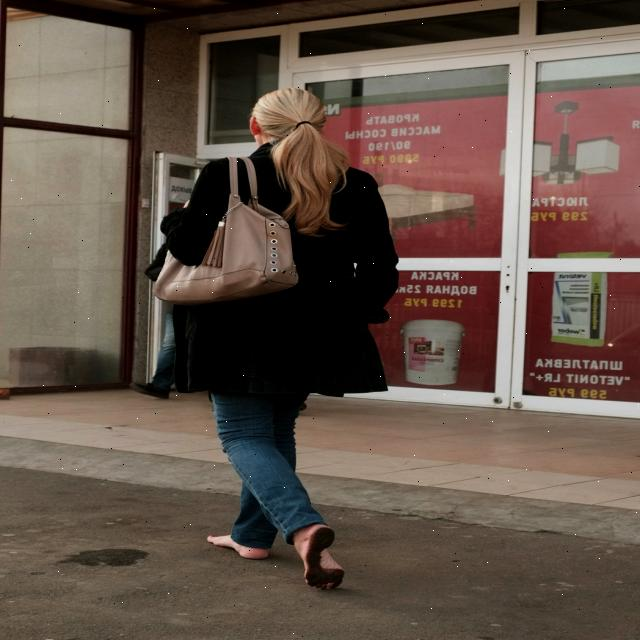No Safety Boots: (303, 524, 344, 590), (206, 535, 268, 559)
